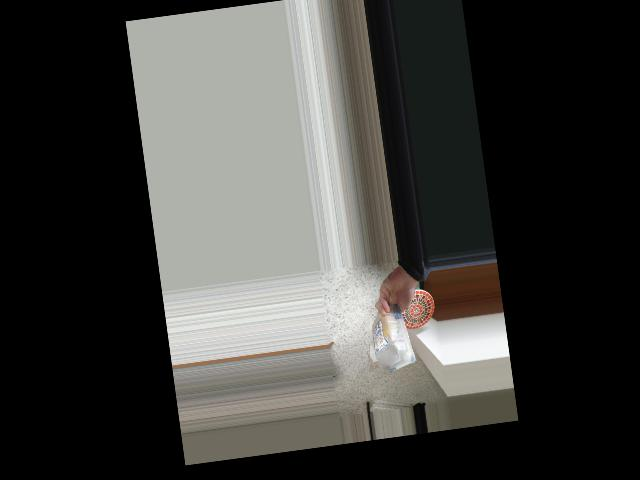cheese: (368, 304, 413, 374)
